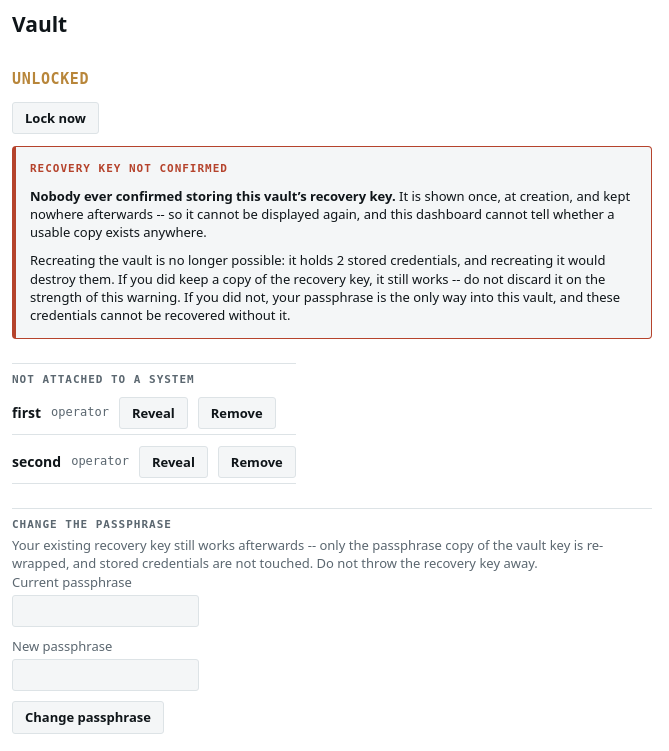
Test case: VaultPanel › removing a credential (C1) › confirming one row does not arm the confirmation on another
Click the button with test id "remove-c1". click: coordinates (237, 413)
box: 198,396 -> 276,429
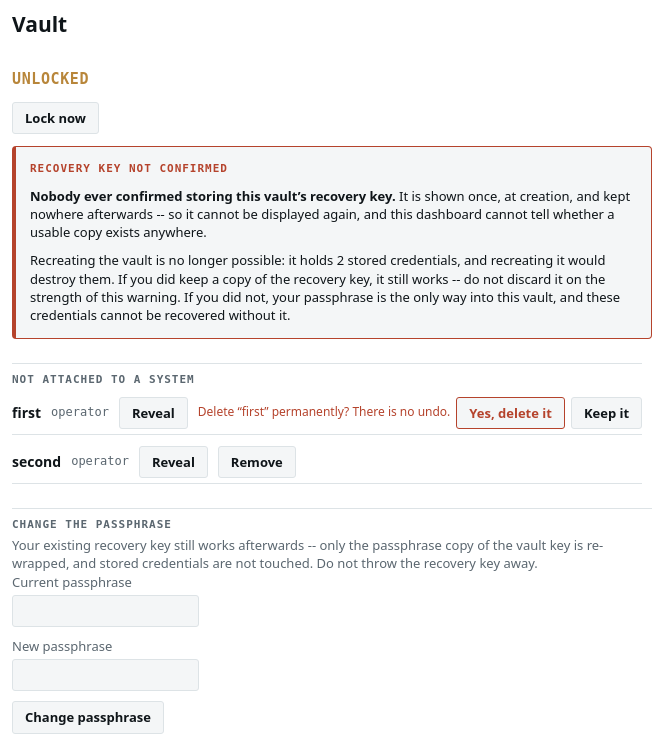
expect the button with test id "remove-c2" is shown: met, box 218,446 -> 296,478
expect the button with test id "confirm-remove-c1" is shown: met, box 456,396 -> 565,429
